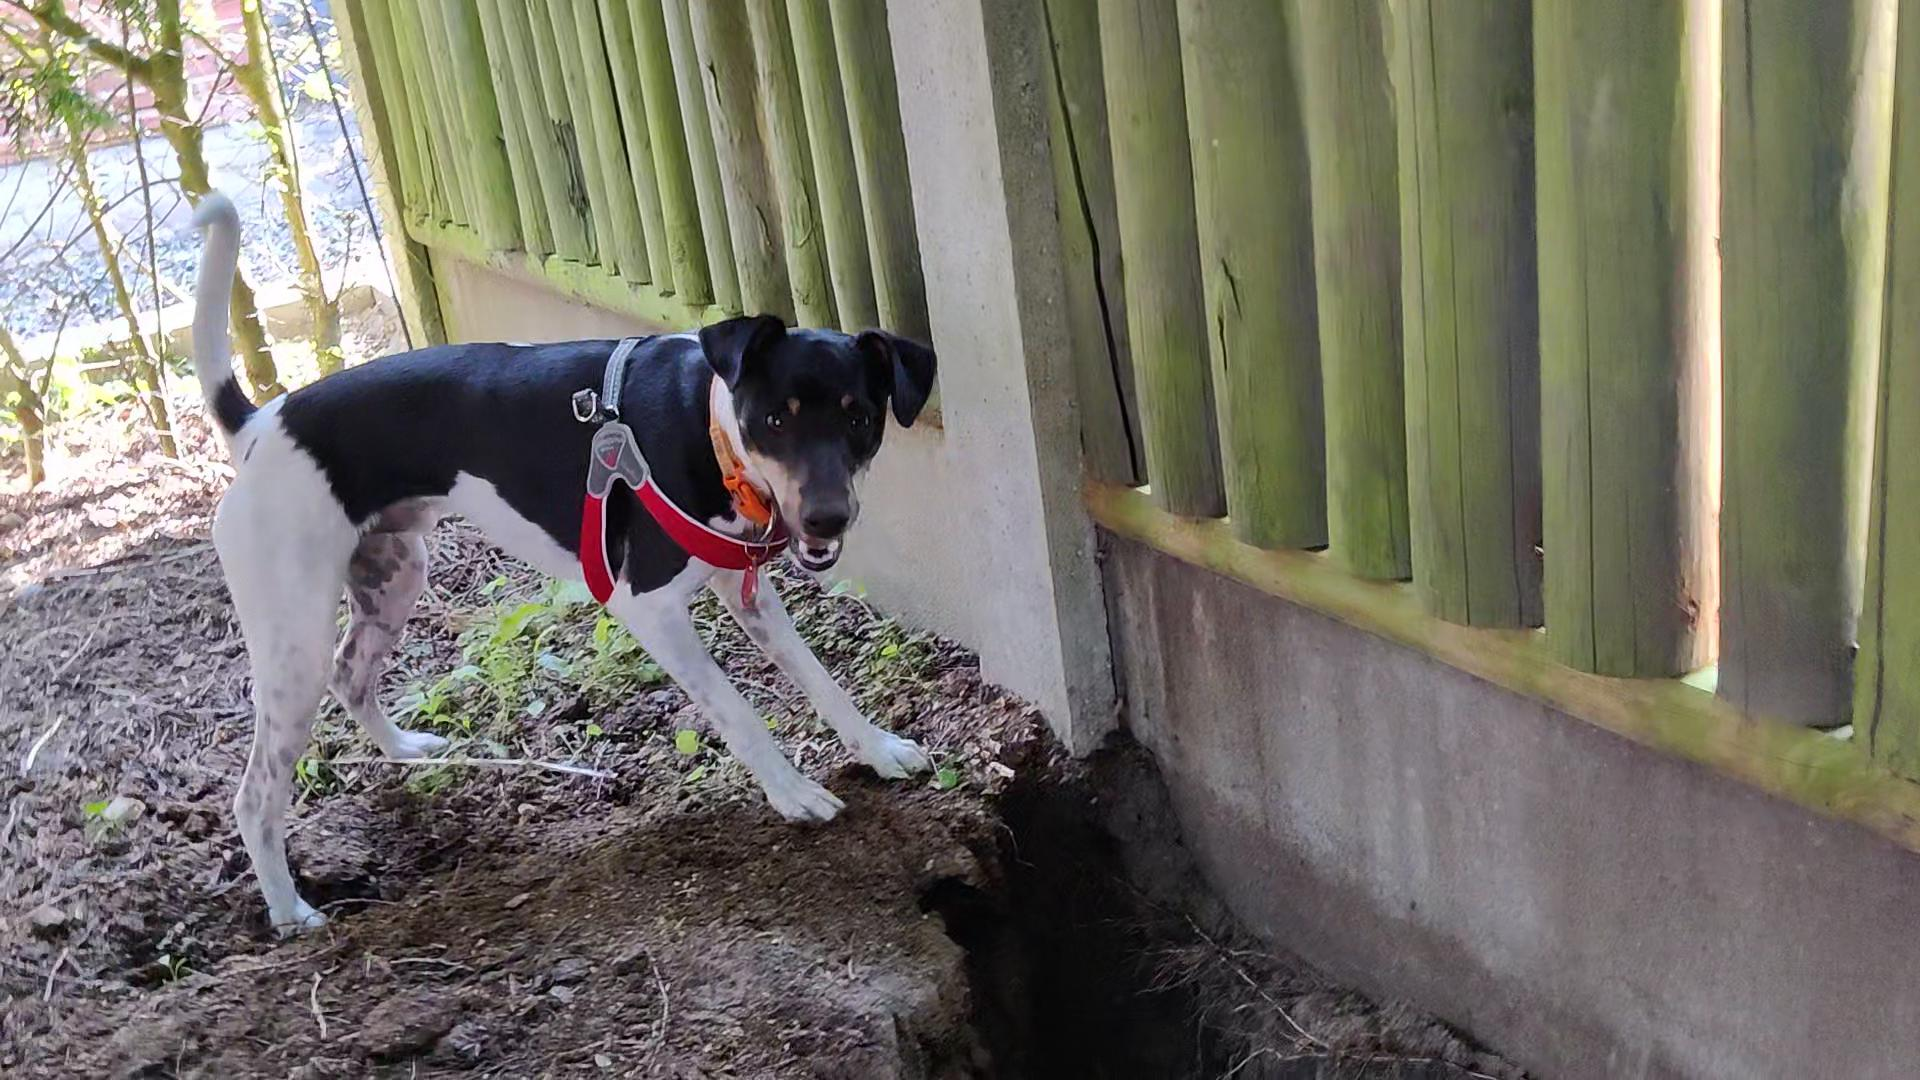Dog: (131, 146, 978, 957)
